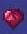lifeC: (0, 1, 27, 34)
